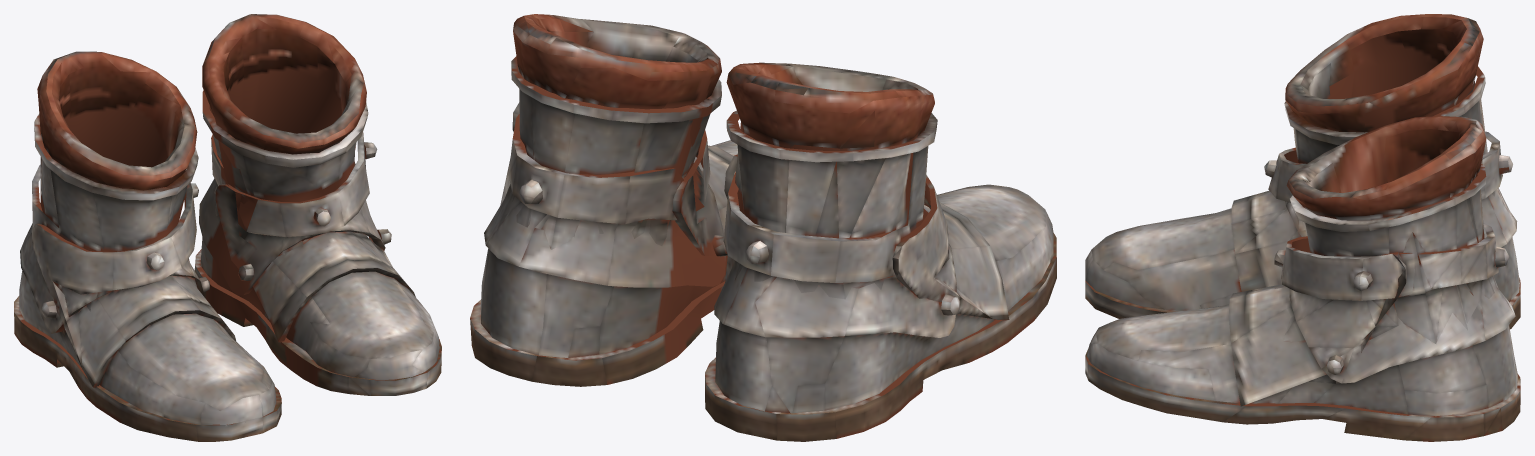
The model's file is item_mm9_10130.glb.
The picture shows the model from 3 angles, left to right: view 1: azimuth 30°, elevation 25°; view 2: azimuth 150°, elevation 25°; view 3: azimuth 270°, elevation 25°; orthographic projection. The views are drawn at different scales.
Parts seen in each view (by area): view 1: d10130; view 2: d10130; view 3: d10130.
Boxes of the visible parts, x1,y1,x2,y2 form: d10130: (14, 14, 441, 441); d10130: (470, 14, 1056, 441); d10130: (1085, 14, 1520, 441).
Bounding box in the file's own units: 0.962 × 0.7191 × 1.
1 material, 1 textured.
